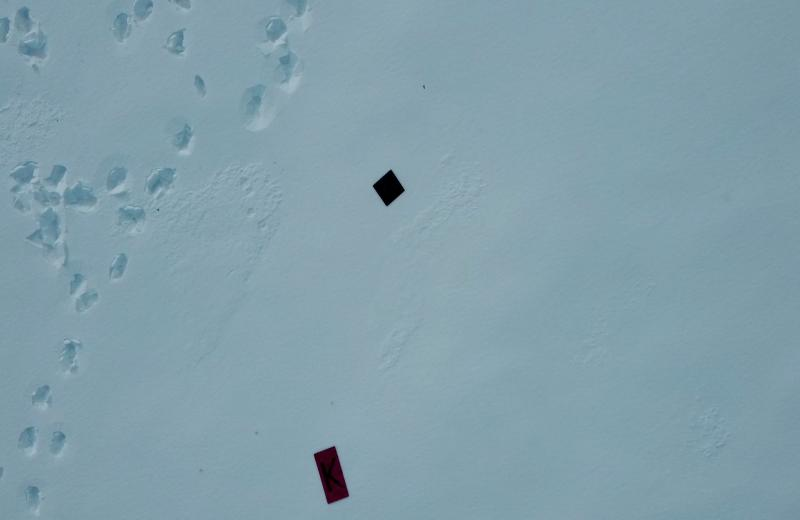Rectangle: (314, 447, 351, 506)
Square: (373, 169, 406, 207)
